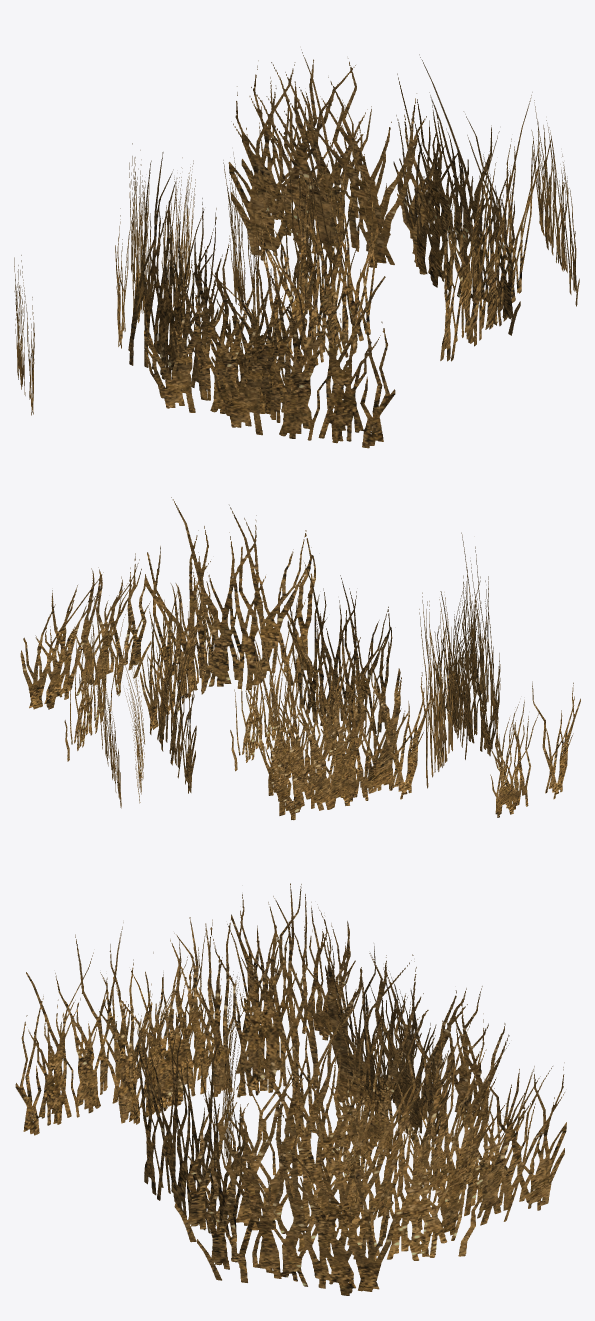
Rendered from grass_3d_01_golden_beige.glb.
3 renders of one model, top to bottom at view 1: azimuth 30°, elevation 25°; view 2: azimuth 150°, elevation 25°; view 3: azimuth 270°, elevation 25°, orthographic. The views are drawn at different scales.
Parts seen in each view (by area): view 1: grass_cards; view 2: grass_cards; view 3: grass_cards.
Boxes of the visible parts, <box> form: grass_cards: <box>14,49,579,448</box>; grass_cards: <box>20,497,580,820</box>; grass_cards: <box>15,883,566,1295</box>.
Size of the model in its own units: 1.1 by 0.4321 by 0.9366.
Materials: 1 (1 with a texture image).
